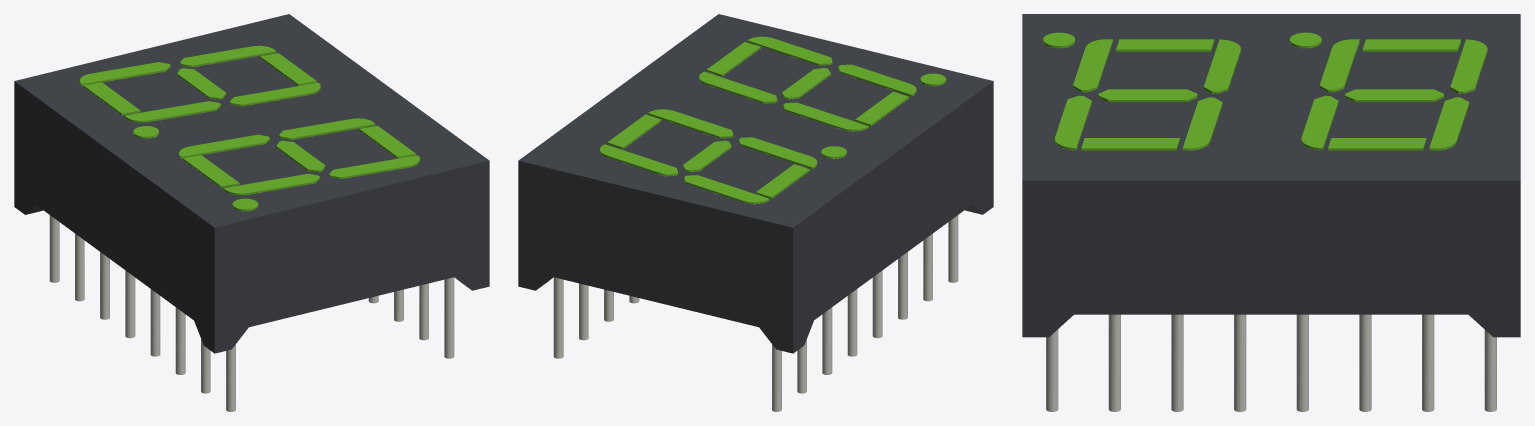
File: kc-da04-11cgkwa.glb
The picture shows the model from 3 angles, left to right: view 1: azimuth 30°, elevation 25°; view 2: azimuth 150°, elevation 25°; view 3: azimuth 270°, elevation 25°; orthographic projection. The views are drawn at different scales.
Visible parts, largest first — view 1: 0.08333333333333333_0.08333333333333333_0.08333333333333333_, 0.16666666666666666_0.4166666666666667_0_0, 0.6666666666666666_0.6666666666666666_0.5833333333333334_0.8; view 2: 0.08333333333333333_0.08333333333333333_0.08333333333333333_, 0.16666666666666666_0.4166666666666667_0_0, 0.6666666666666666_0.6666666666666666_0.5833333333333334_0.8; view 3: 0.08333333333333333_0.08333333333333333_0.08333333333333333_, 0.16666666666666666_0.4166666666666667_0_0, 0.6666666666666666_0.6666666666666666_0.5833333333333334_0.8.
Part boxes in pixels (x1,y1,x2,y2): 0.08333333333333333_0.08333333333333333_0.08333333333333333_: (14,14,489,353); 0.16666666666666666_0.4166666666666667_0_0: (79,45,419,211); 0.6666666666666666_0.6666666666666666_0.5833333333333334_0.8: (49,215,454,411); 0.08333333333333333_0.08333333333333333_0.08333333333333333_: (518,14,993,353); 0.16666666666666666_0.4166666666666667_0_0: (600,36,946,203); 0.6666666666666666_0.6666666666666666_0.5833333333333334_0.8: (553,215,958,411); 0.08333333333333333_0.08333333333333333_0.08333333333333333_: (1022,14,1520,337); 0.16666666666666666_0.4166666666666667_0_0: (1043,32,1487,150); 0.6666666666666666_0.6666666666666666_0.5833333333333334_0.8: (1046,314,1496,411).
Bounding box in the file's own units: 1.6 × 1.11 × 2.02.
